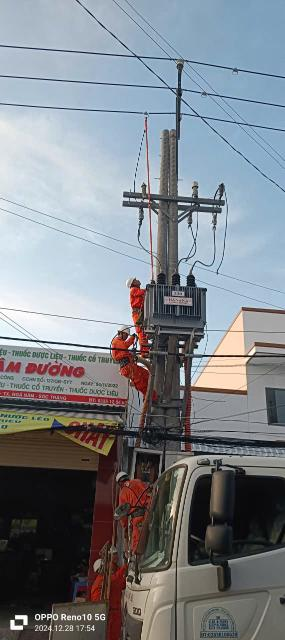harness: (110, 353, 137, 369), (123, 506, 150, 520), (127, 308, 151, 315)
helmet: (114, 323, 134, 338), (112, 468, 130, 484), (89, 559, 109, 573), (125, 275, 143, 290)
